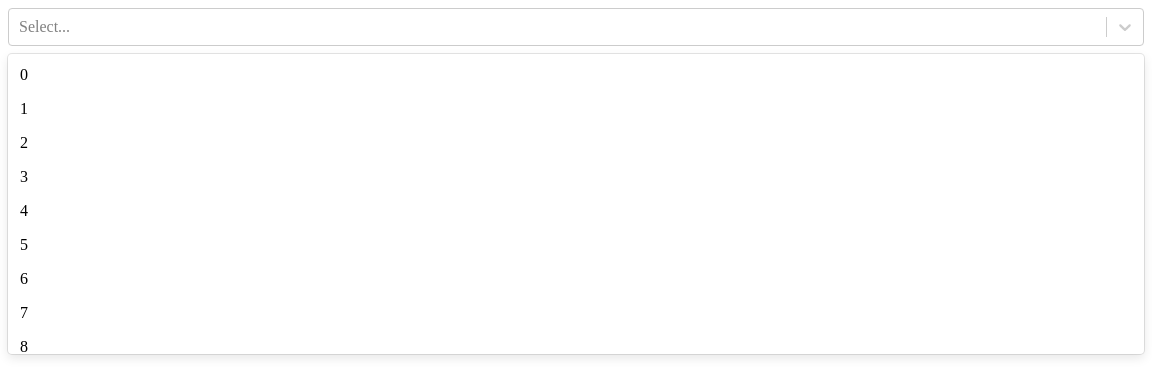
defaultMenuIsOpen prop > should open by menu default and clicking on Dropdown Indicator should toggle menu
The image size is (1152, 376).
Press the mouse on the element with class "react-select__dropdown-indicator" at (1125, 27), box [1115,17,1135,37]
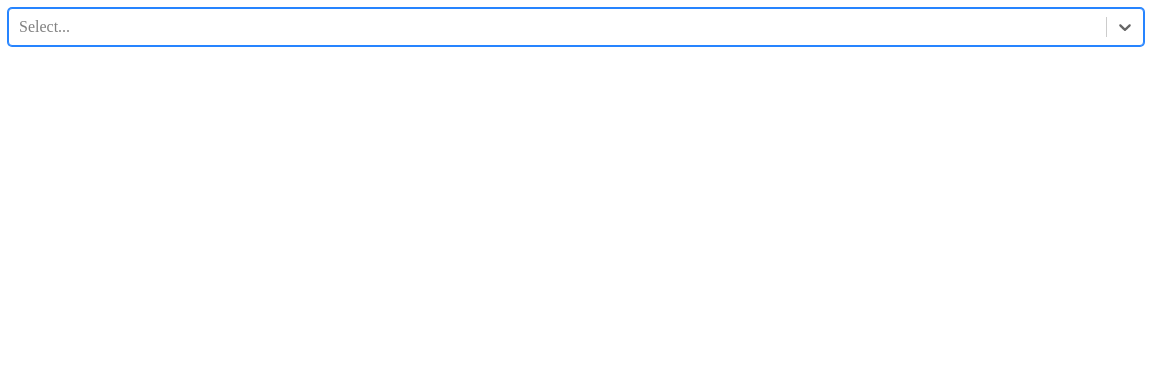
Expected: the element with class "react-select__menu" is gone
